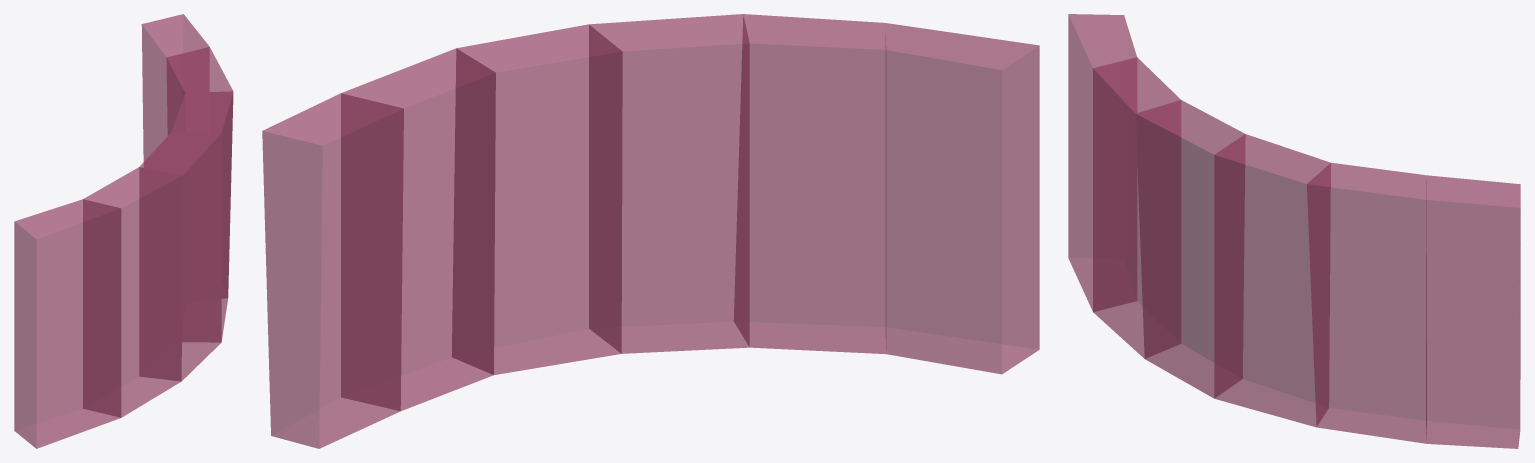
Rendered from SM_Bld_Stairs_Railing_Round_04_Collision.fbx.
3 renders of one model, left to right at view 1: azimuth 30°, elevation 25°; view 2: azimuth 150°, elevation 25°; view 3: azimuth 270°, elevation 25°, orthographic. The views are drawn at different scales.
Parts seen in each view (by area): view 1: SM_Bld_Stairs_Railing_Round_04_Collision; view 2: SM_Bld_Stairs_Railing_Round_04_Collision; view 3: SM_Bld_Stairs_Railing_Round_04_Collision.
Part boxes in pixels (box(x1,y1,x2,y2)): SM_Bld_Stairs_Railing_Round_04_Collision: box(14, 14, 233, 448); SM_Bld_Stairs_Railing_Round_04_Collision: box(262, 14, 1039, 448); SM_Bld_Stairs_Railing_Round_04_Collision: box(1068, 14, 1520, 448).
Bounding box in the file's own units: 135 × 79.27 × 133.
